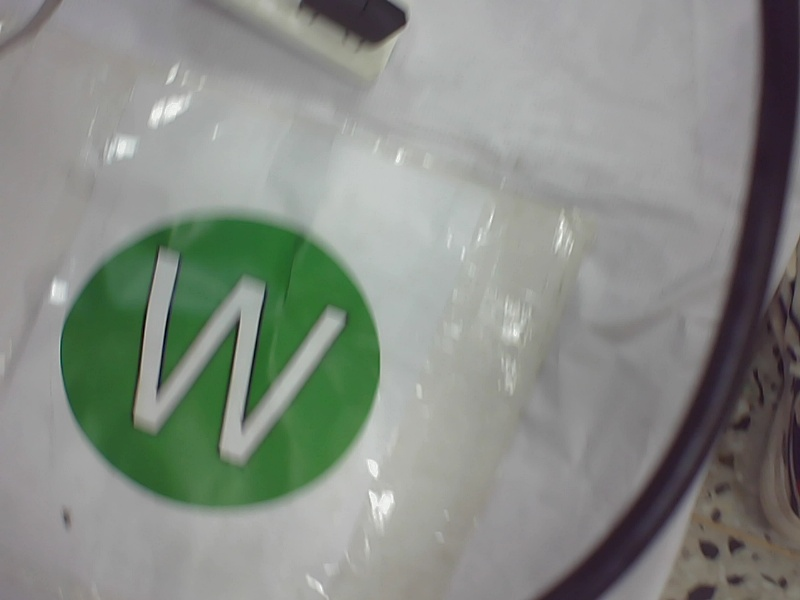areaB: (58, 199, 388, 512)
